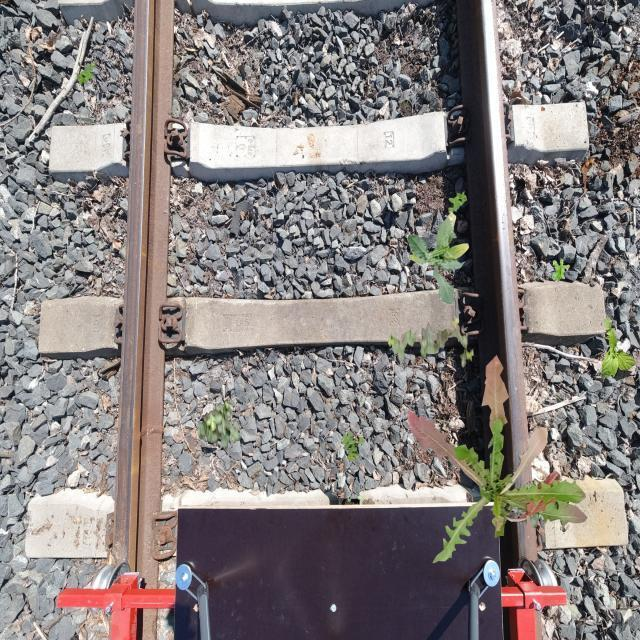Plant: (408, 355, 588, 564), (407, 212, 470, 306), (387, 316, 474, 368), (601, 317, 636, 380), (507, 478, 550, 528), (197, 400, 240, 450), (341, 431, 365, 462), (448, 190, 468, 215), (77, 62, 96, 86), (553, 258, 570, 282)
